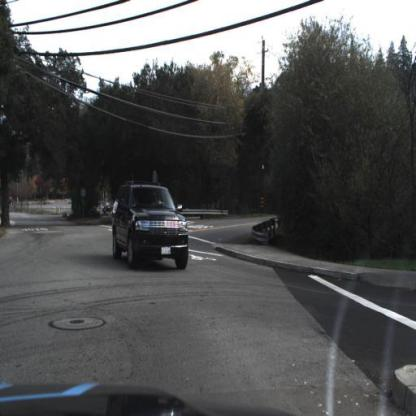car: (108, 176, 189, 274)
